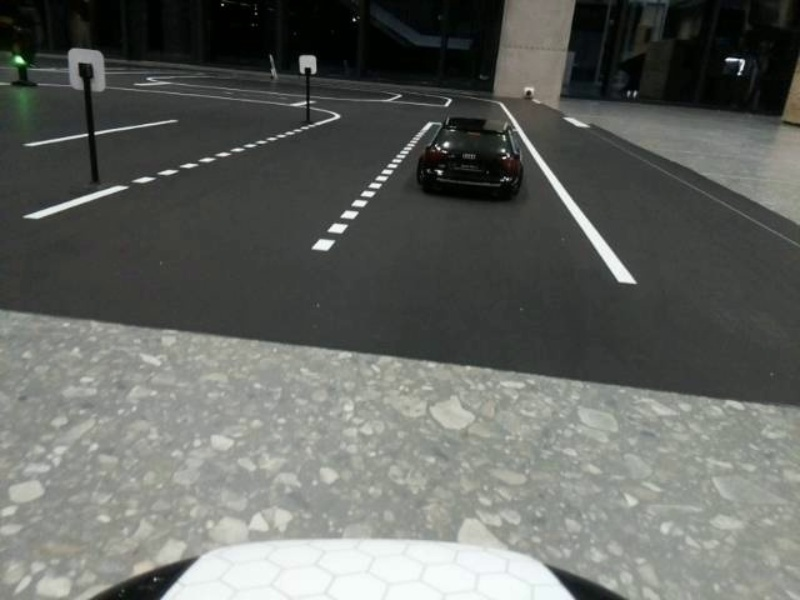car: (417, 112, 530, 199)
